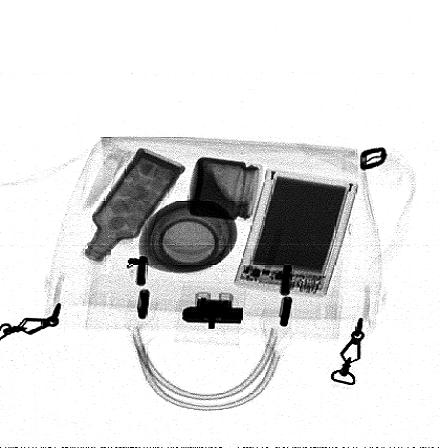Powerbank: (234, 169, 359, 299)
